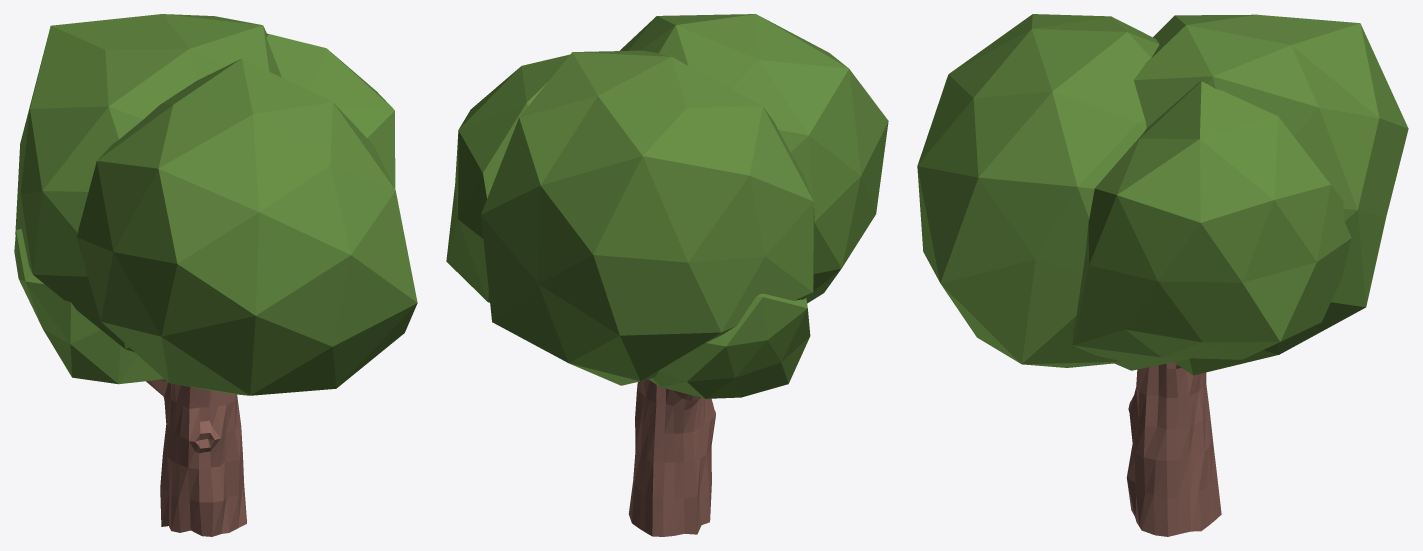
The model's file is oaktree.obj.
3 views of the same model, side by side, from view 1: azimuth 30°, elevation 25°; view 2: azimuth 150°, elevation 25°; view 3: azimuth 270°, elevation 25° (orthographic). The views are drawn at different scales.
Parts seen in each view (by area): view 1: Icosphere_Icosphere.002, Cylinder_Cylinder.001; view 2: Icosphere_Icosphere.002, Cylinder_Cylinder.001; view 3: Icosphere_Icosphere.002, Cylinder_Cylinder.001.
Part boxes in pixels (x1,y1,x2,y2): Icosphere_Icosphere.002: [14, 14, 417, 395]; Cylinder_Cylinder.001: [146, 379, 246, 536]; Icosphere_Icosphere.002: [446, 14, 888, 398]; Cylinder_Cylinder.001: [628, 379, 715, 536]; Icosphere_Icosphere.002: [917, 14, 1408, 375]; Cylinder_Cylinder.001: [1126, 362, 1221, 536].
Bounding box in the file's own units: 16.5 × 21.82 × 19.57.
